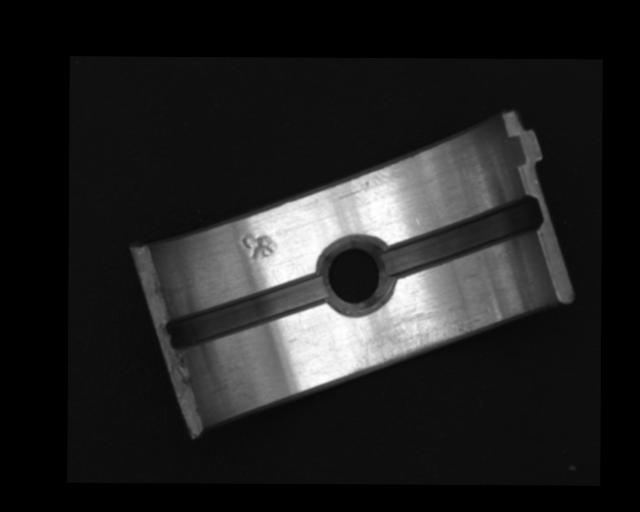bruise: (237, 232, 277, 263)
gap: (378, 194, 543, 278), (165, 274, 324, 349)
hole: (316, 236, 394, 315)
scratch: (340, 313, 483, 378)
